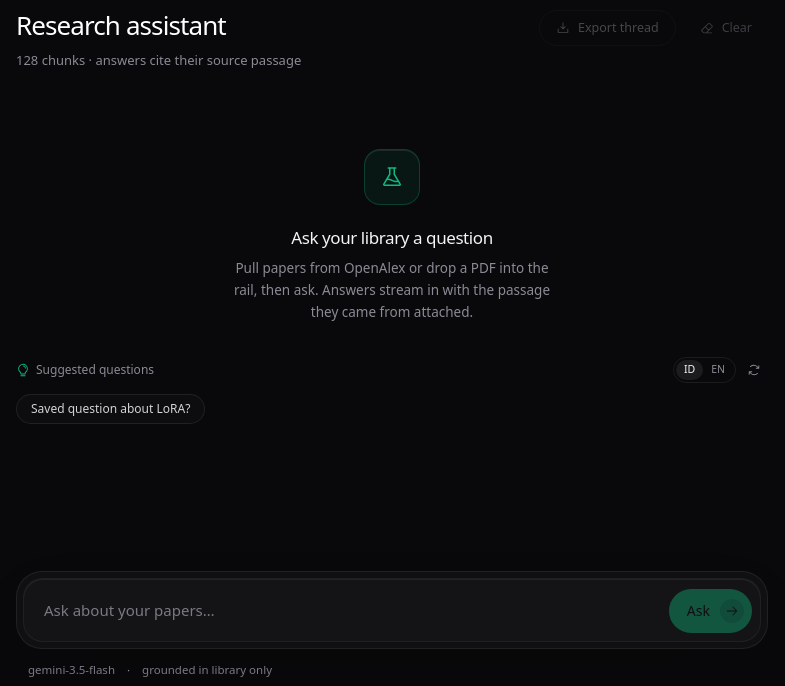
starter suggestions › regenerate excludes the questions already on screen
This screenshot has width=785, height=686.
(page scrolled)
Expected: the text "128 chunks · answers cite their source passage" is shown, [16,51,301,70]
Step 1. Click the button named "regenerate suggestions" → (754, 370), box [740,356,768,384]
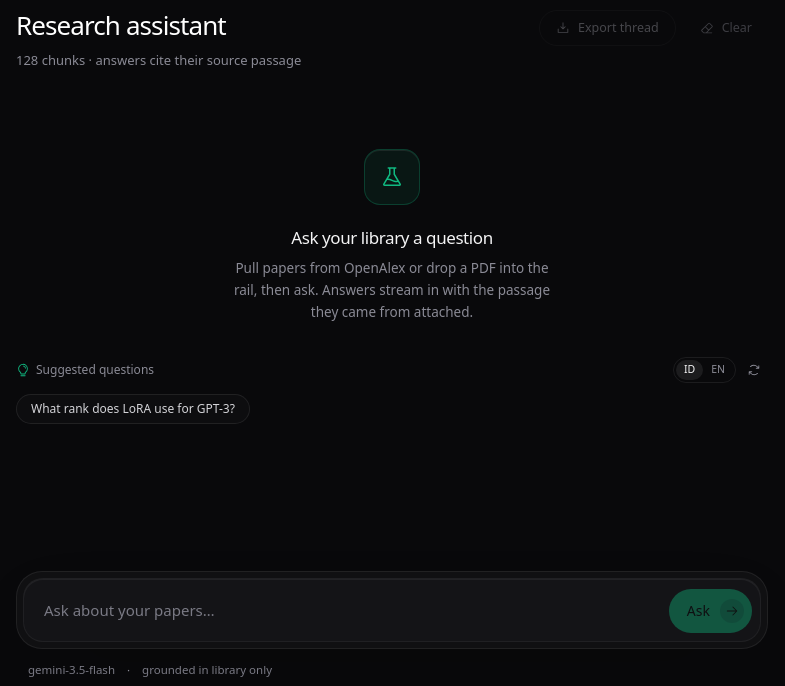
Expected: the text "gemini-3.5-flash" is shown, [28,661,115,678]
Expected: the button "What rank does LoRA use for GPT-3?" is shown, [16,394,250,424]
